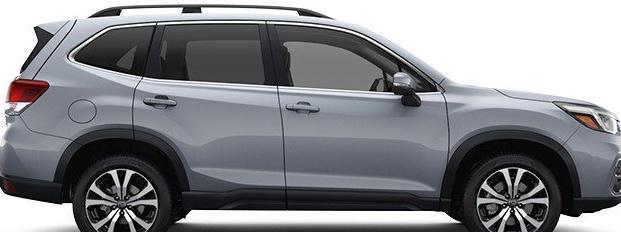SUV: (1, 5, 621, 232)
